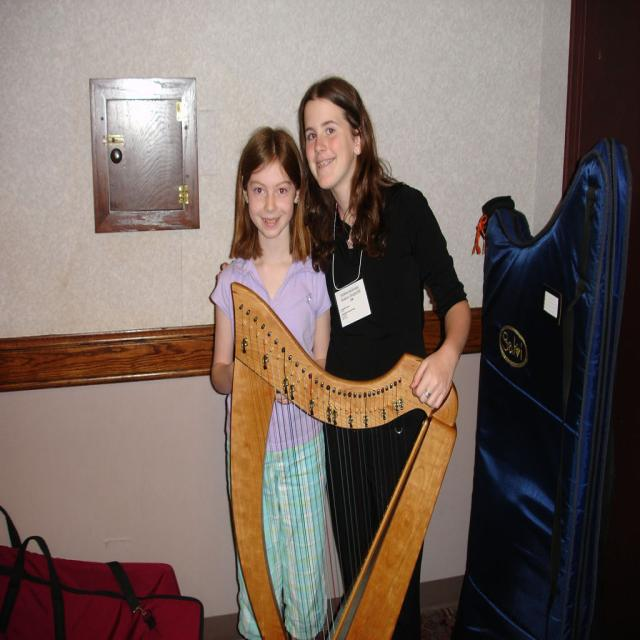harp: (219, 270, 462, 640)
